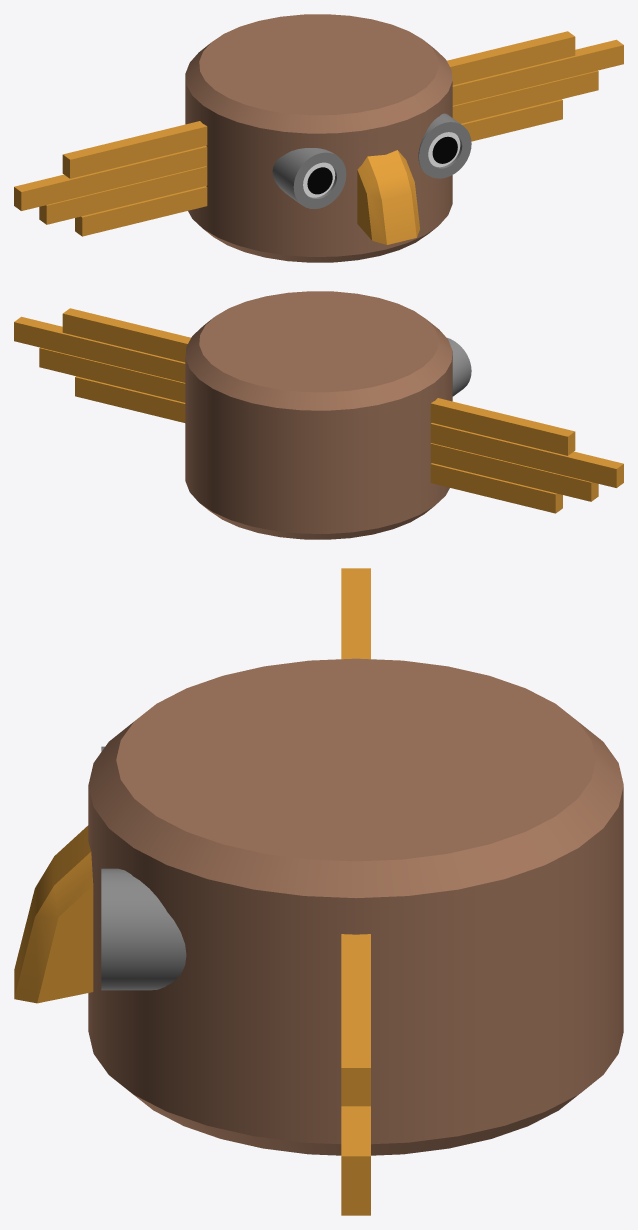
File: Totem1.fbx
3 renders of one model, top to bottom at view 1: azimuth 30°, elevation 25°; view 2: azimuth 150°, elevation 25°; view 3: azimuth 270°, elevation 25°, orthographic. The views are drawn at different scales.
Parts seen in each view (by area): view 1: Cylinder, Cube.001, Cube, Cylinder.001, Cylinder.002, Cylinder.003; view 2: Cylinder, Cube.001, Cylinder.001; view 3: Cylinder, Cube.001, Cube, Cylinder.001.
Boxes of the visible parts, x1,y1,x2,y2 form: Cylinder: [185, 14, 452, 262]; Cube.001: [14, 31, 623, 236]; Cube: [357, 150, 419, 244]; Cylinder.001: [272, 113, 471, 208]; Cylinder.002: [307, 136, 457, 194]; Cylinder.003: [303, 132, 460, 197]; Cylinder: [185, 291, 452, 539]; Cube.001: [14, 308, 623, 513]; Cylinder.001: [447, 338, 471, 396]; Cylinder: [88, 658, 623, 1155]; Cube.001: [341, 568, 370, 1215]; Cube: [14, 825, 93, 1003]; Cylinder.001: [101, 746, 186, 990].
Size of the model in its own units: 520 by 121 by 228.
